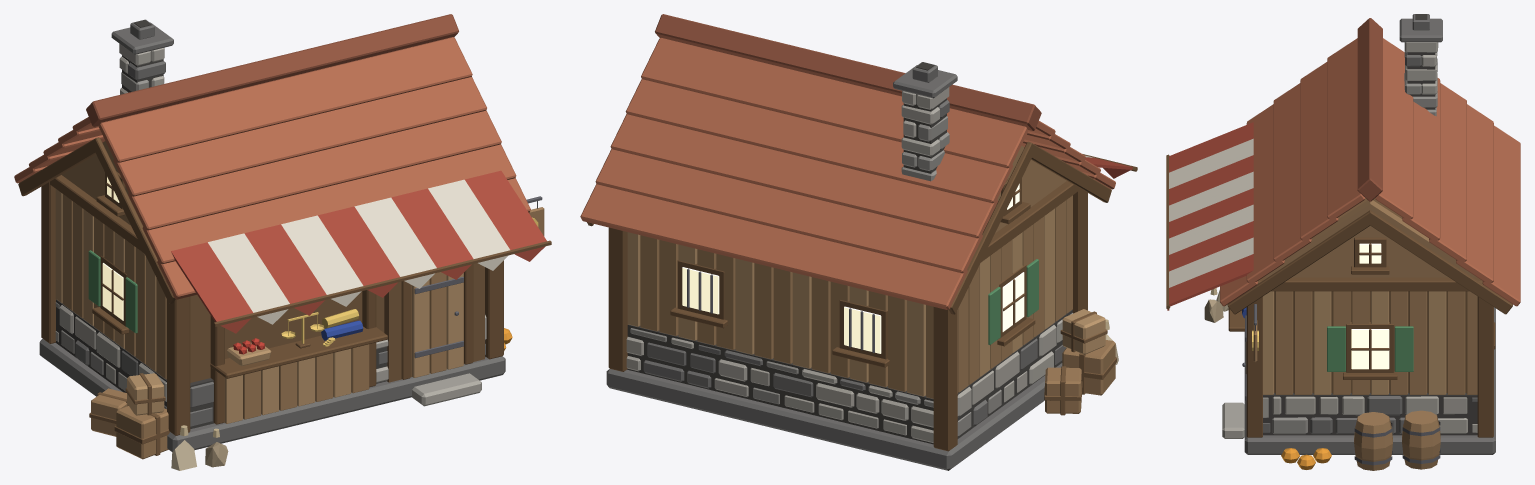
The model's file is shop_merchant.glb.
The picture shows the model from 3 angles, left to right: view 1: azimuth 30°, elevation 25°; view 2: azimuth 150°, elevation 25°; view 3: azimuth 270°, elevation 25°; orthographic projection. The views are drawn at different scales.
Visible parts, largest first — view 1: MerchantShop; view 2: MerchantShop; view 3: MerchantShop.
Part boxes in pixels (<box>): MerchantShop: <box>14,14,551,470</box>; MerchantShop: <box>580,14,1137,470</box>; MerchantShop: <box>1166,14,1520,470</box>.
Size of the model in its own units: 6.87 by 5.53 by 5.56.
